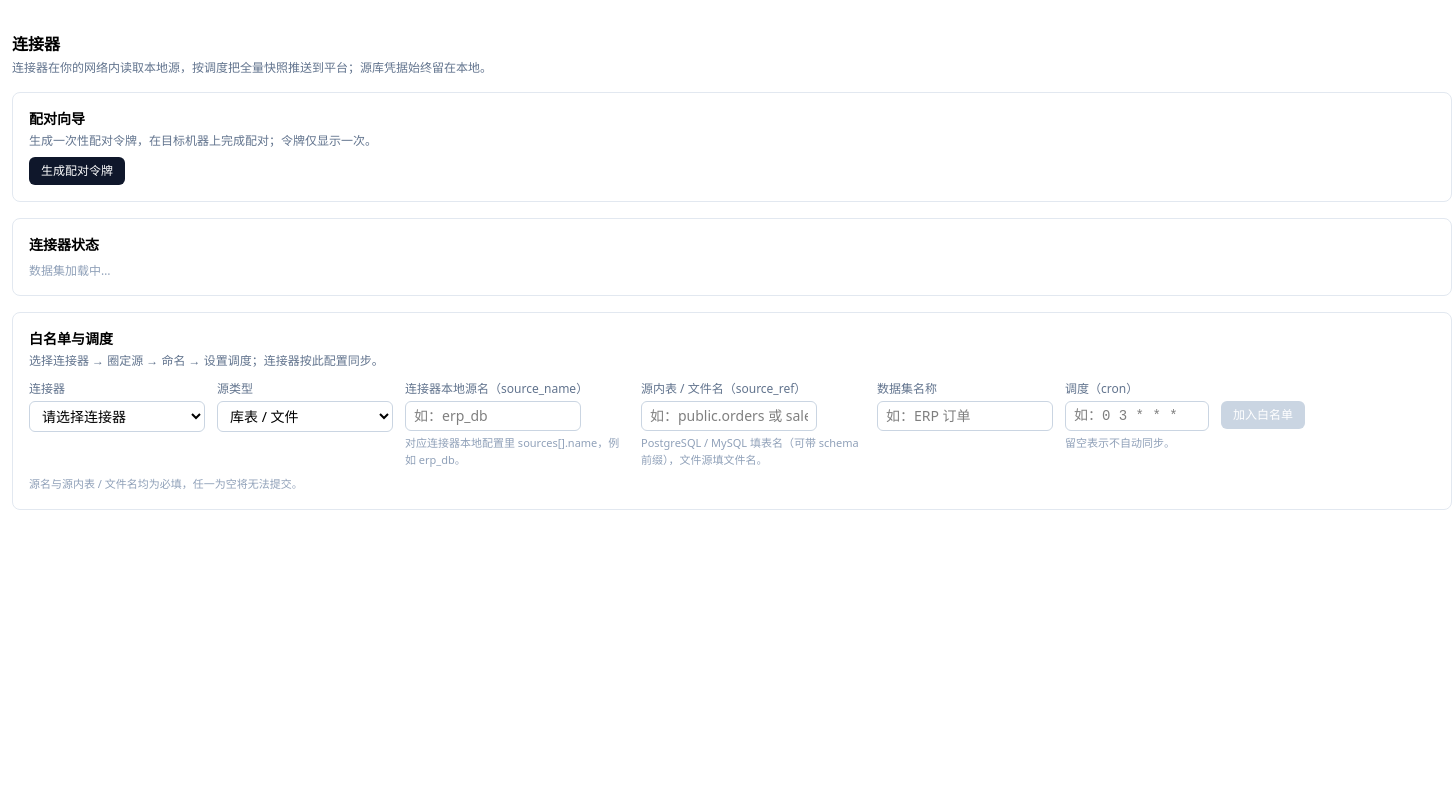
配对向导下载清单（任务 3.1/3.3） › 正常态：按平台列真实下载链接（版本 + sha256 展示），指向下载端点
The width and height of the screenshot is (1452, 810).
Click the button with test id "pairing-generate". click: (77, 171)
box: [29,157,125,185]
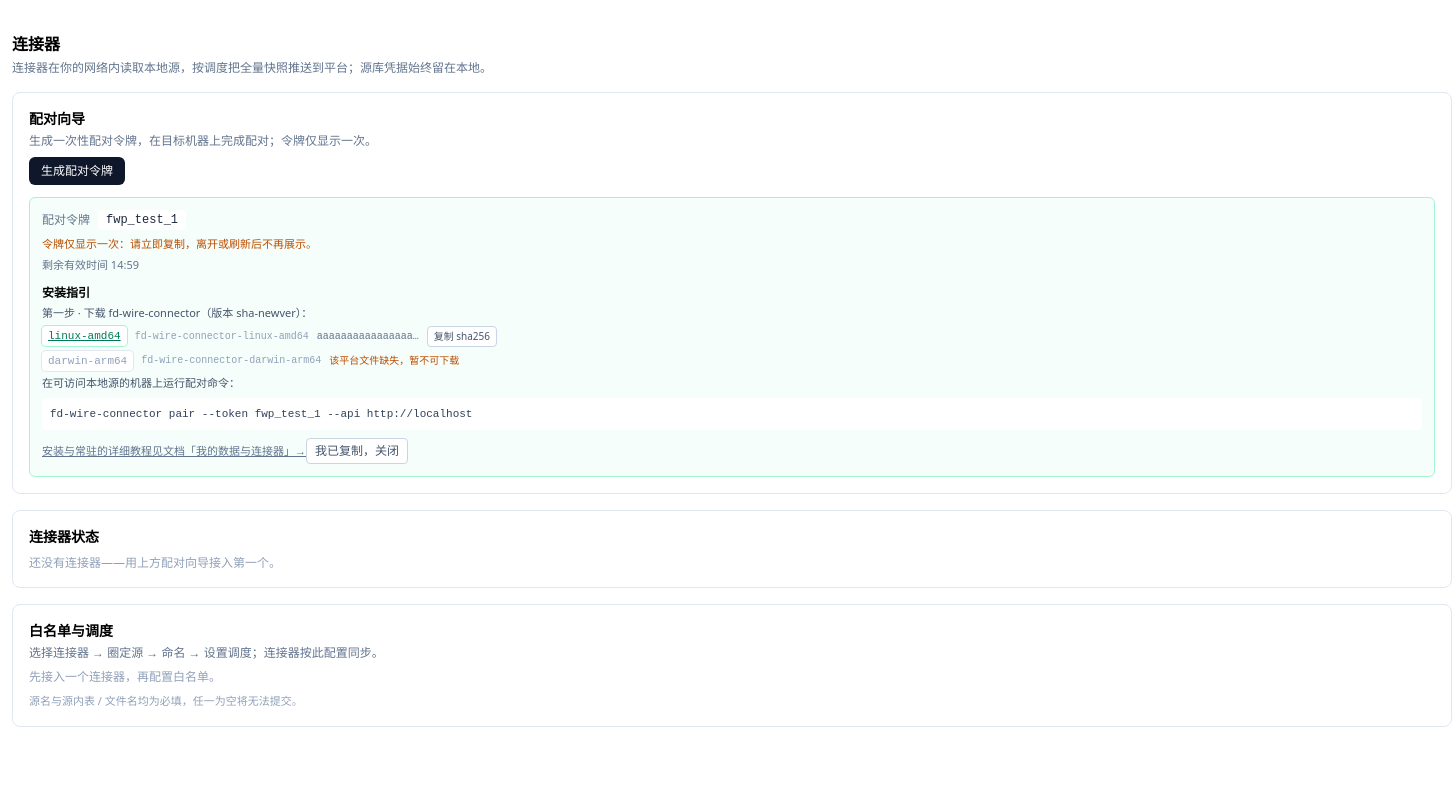
Expected: the element with test id "pairing-token-panel" is shown, [29,197,1435,477]
Expected: the element with test id "connector-downloads" shows "sha-newver", [42,305,312,320]
Expected: the link with test id "connector-download-link" reads "linux-amd64", [42,326,127,346]
